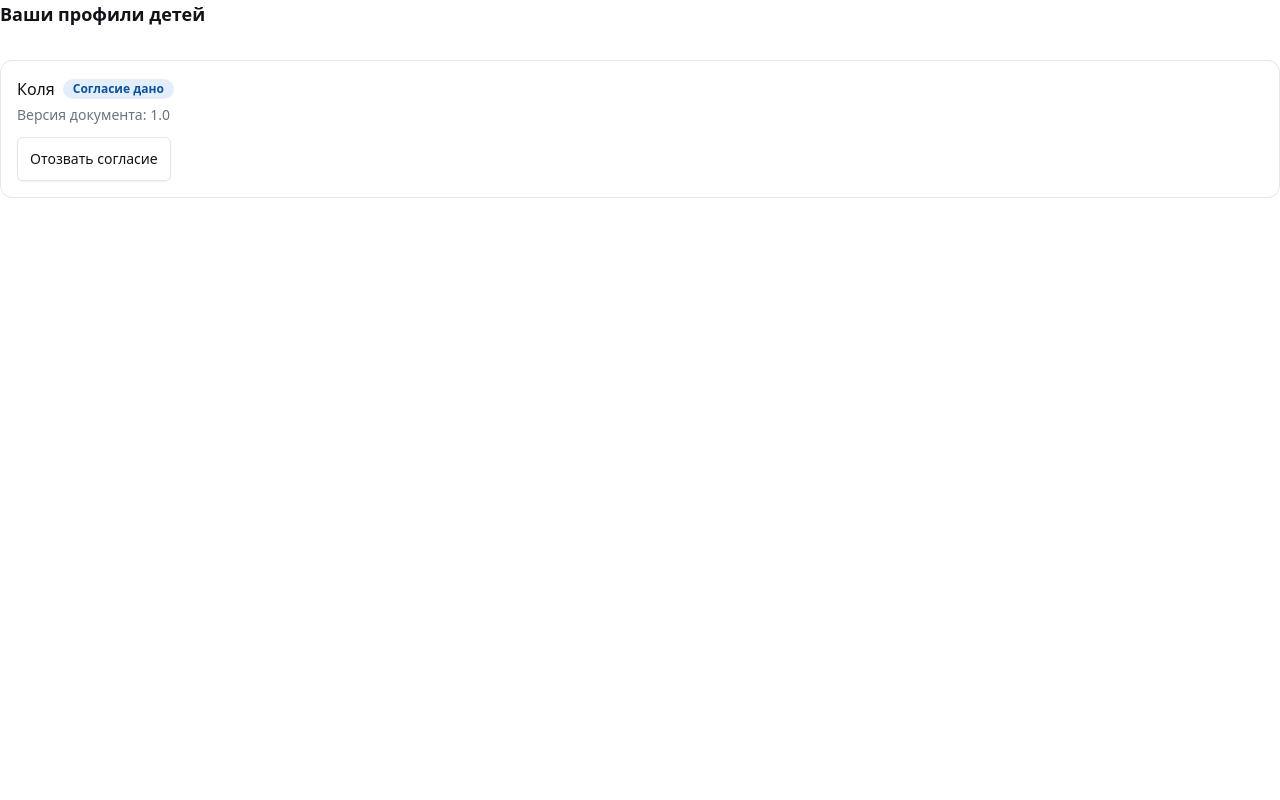
Scenario: ConsentManager › отзыв через диалог сообщает об успехе только после ответа сервера
What coordinates should you click on to do the following:
click the button "Отозвать согласие"
I would click on:
 (94, 159)
Its box is [17,137,171,181].
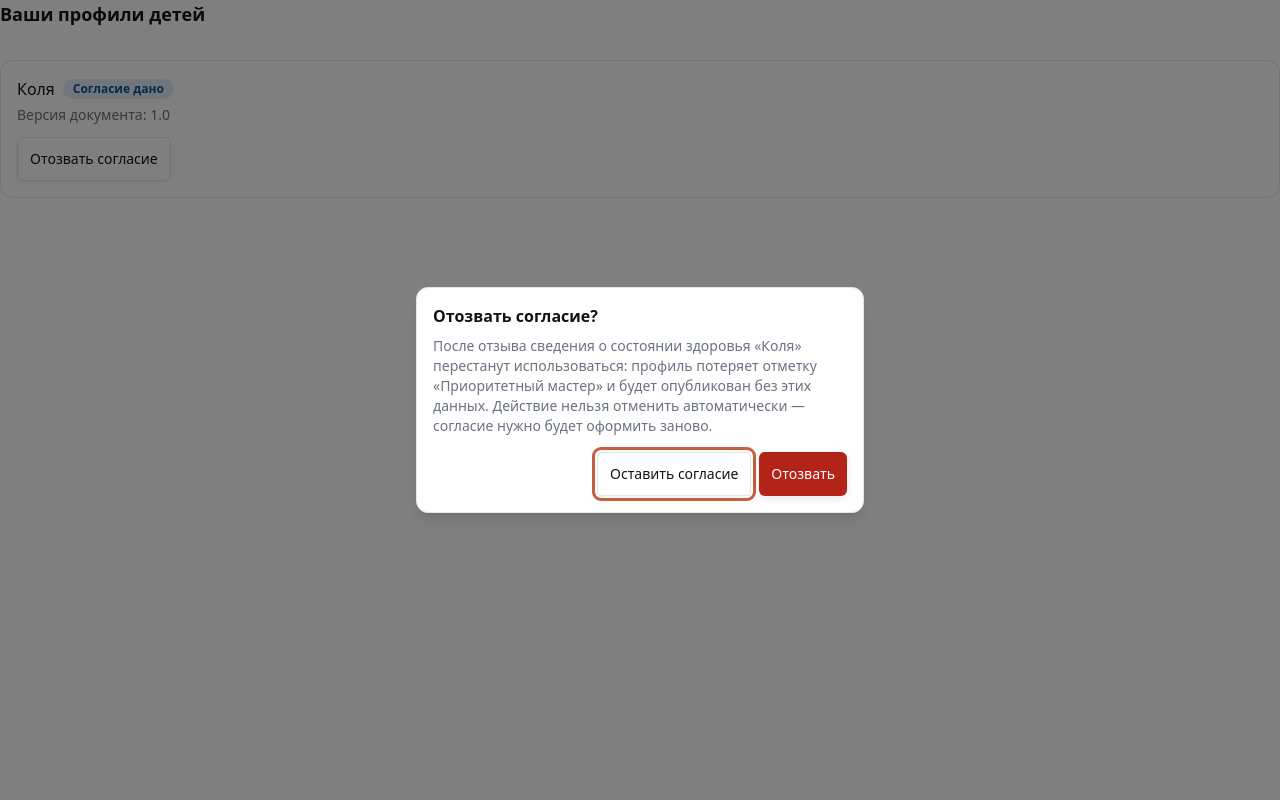
What coordinates should you click on to do the following:
click the button "Отозвать"
I would click on:
 (803, 474)
Its box is [759,452,847,496].
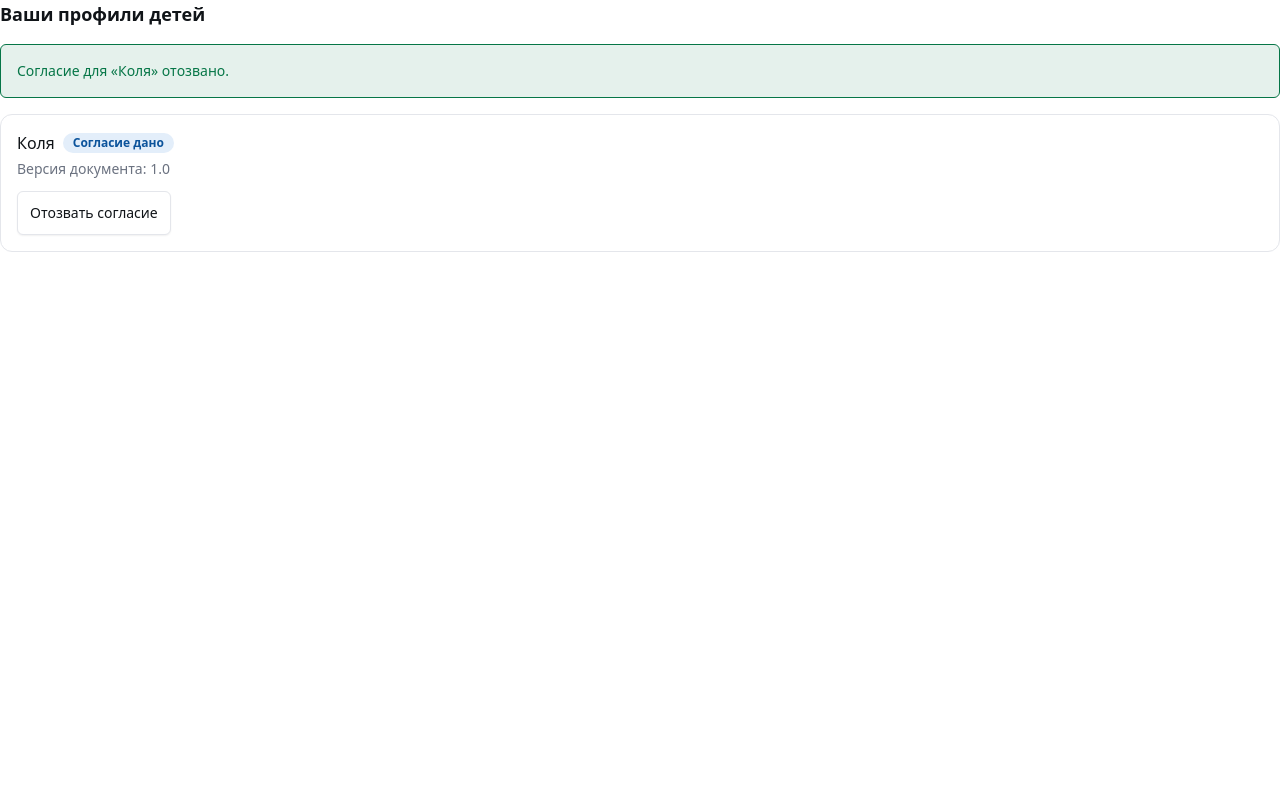
expect the text "Согласие для «Коля» отозвано." is shown: met, box [0,44,1279,98]
